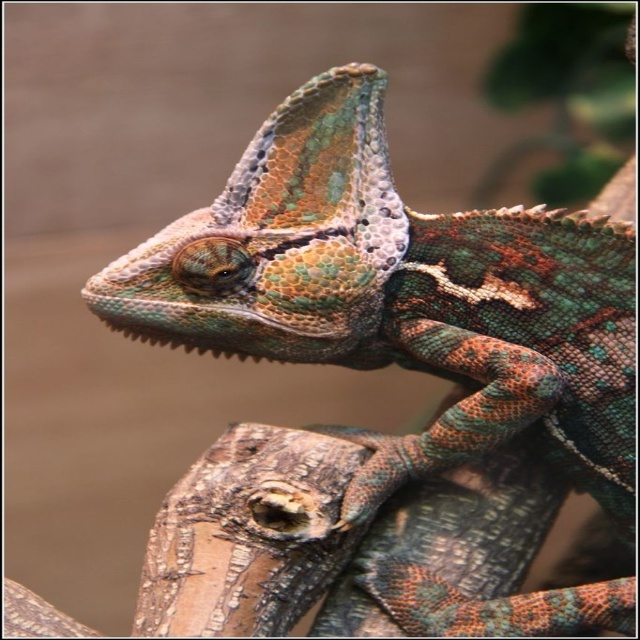Lizard: (84, 67, 629, 618)
